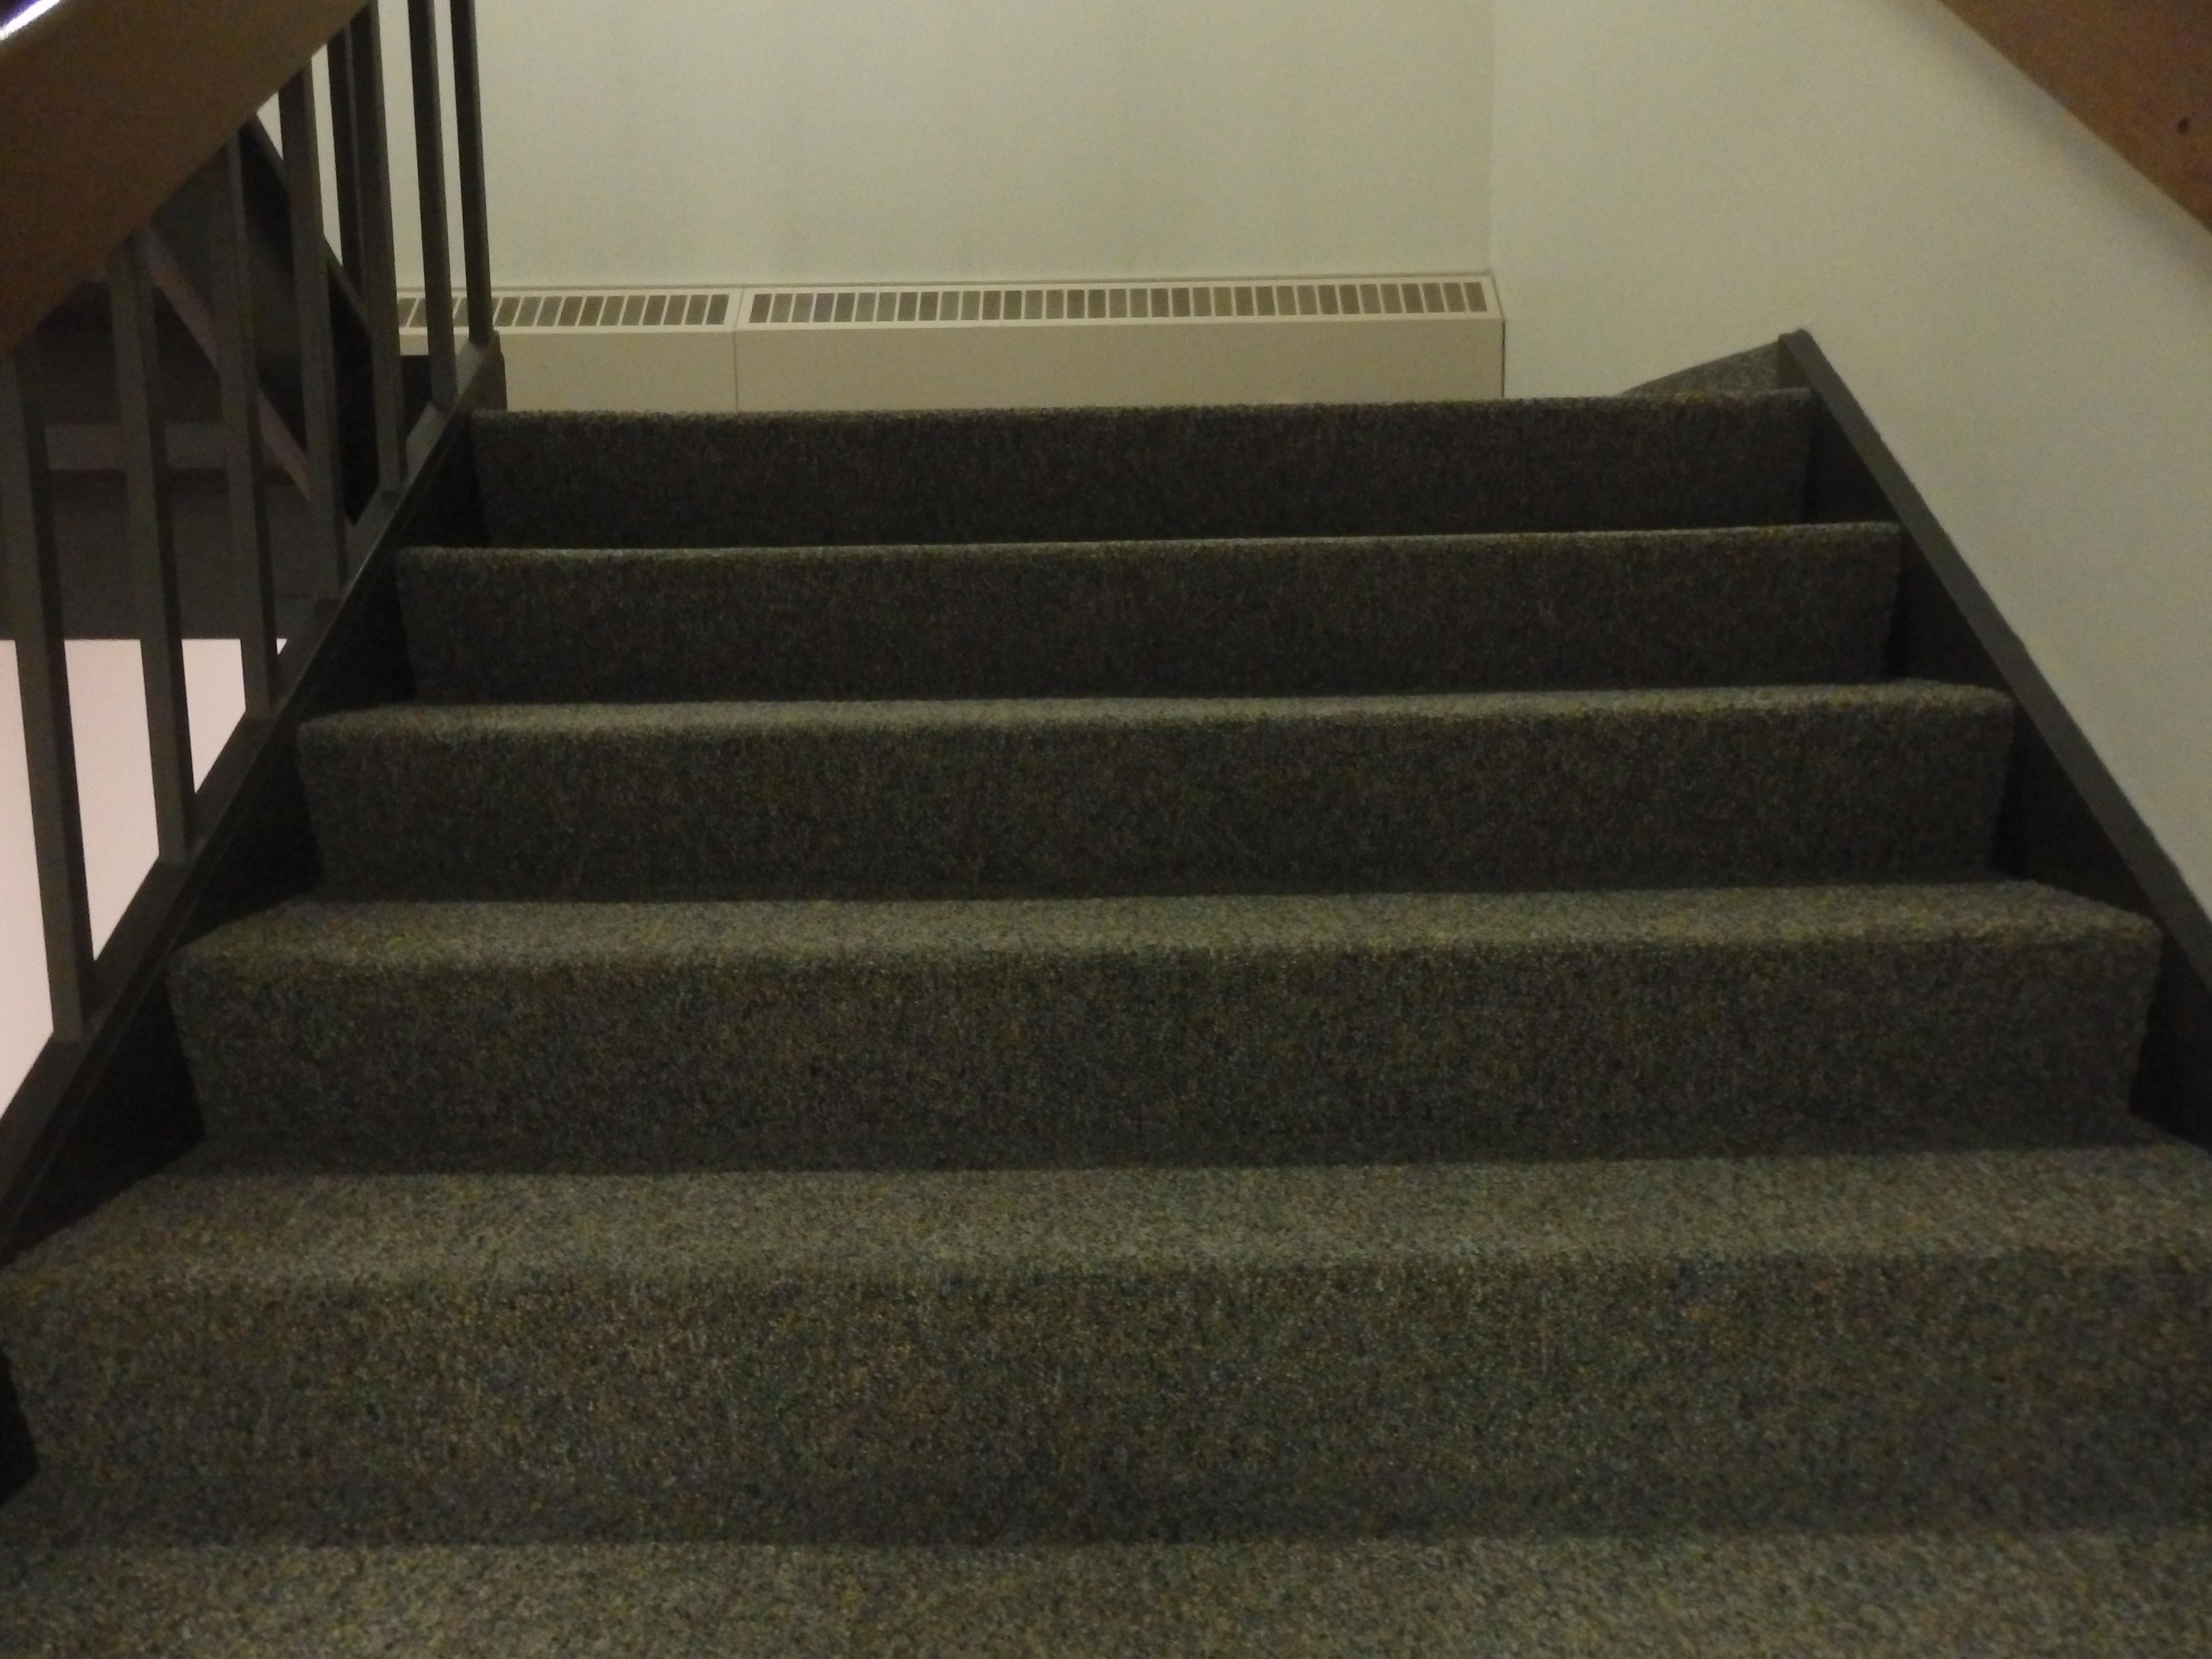stairs_up: (38, 354, 2195, 1434)
